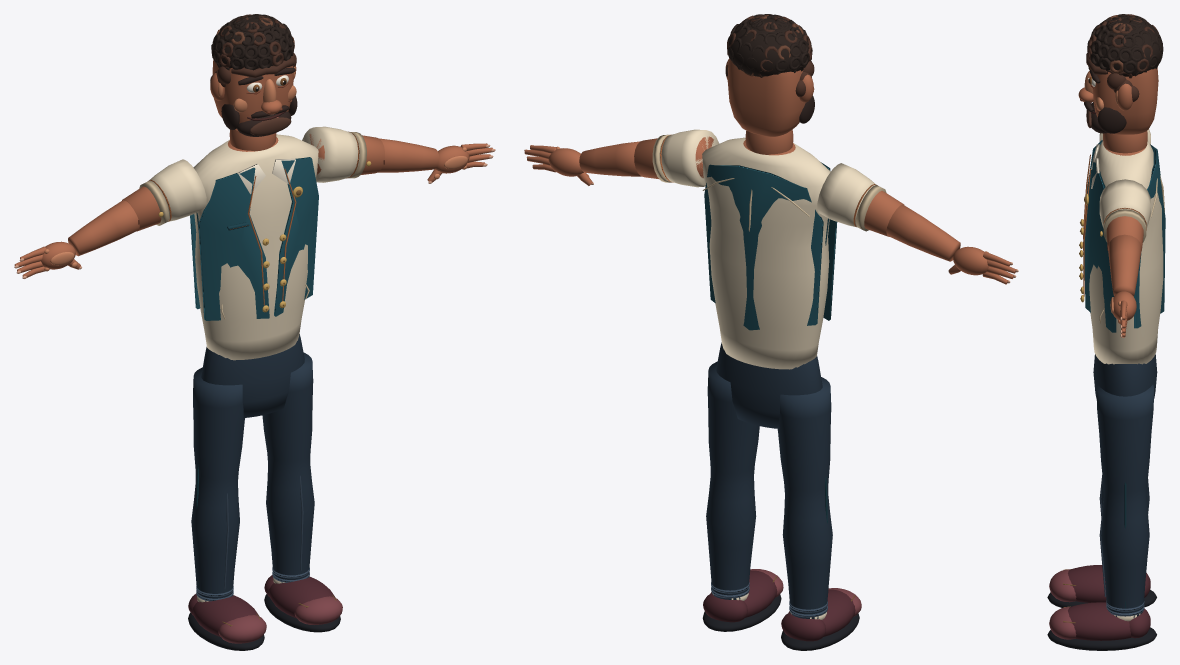
3 renders of one model, left to right at view 1: azimuth 30°, elevation 25°; view 2: azimuth 150°, elevation 25°; view 3: azimuth 270°, elevation 25°, orthographic. The views are drawn at different scales.
Visible parts, largest first — view 1: Trousers - Trouser, Shirt - Shirt, Vest - Vest, Body - Skin, Shoes - Leather, Hair - Hair, Hands - Skin, Face - Skin, Shoes - Leather Light, Hair - Hair Mid, Shoes - Sole, Face - Beard (+3 smaller); view 2: Trousers - Trouser, Shirt - Shirt, Body - Skin, Vest - Vest, Face - Skin, Shoes - Leather, Hair - Hair, Hands - Skin, Shoes - Sole, Shirt - Shirt Seam, Hair - Hair Mid; view 3: Trousers - Trouser, Shirt - Shirt, Vest - Vest, Shoes - Leather, Body - Skin, Hair - Hair, Face - Skin, Shoes - Sole, Hair - Hair Mid, Shoes - Leather Light, Face - Beard, Hands - Skin (+6 smaller).
Part boxes in pixels (bbox=[...]): Trousers - Trouser: bbox=[191, 334, 314, 601]; Shirt - Shirt: bbox=[149, 126, 359, 360]; Vest - Vest: bbox=[190, 157, 318, 320]; Body - Skin: bbox=[68, 129, 439, 256]; Shoes - Leather: bbox=[188, 575, 335, 636]; Hair - Hair: bbox=[211, 14, 294, 70]; Hands - Skin: bbox=[14, 143, 492, 277]; Face - Skin: bbox=[210, 59, 296, 130]; Shoes - Leather Light: bbox=[218, 596, 342, 643]; Hair - Hair Mid: bbox=[210, 14, 296, 87]; Shoes - Sole: bbox=[188, 594, 340, 650]; Face - Beard: bbox=[221, 67, 297, 136]; Trousers - Trouser: bbox=[706, 342, 832, 618]; Shirt - Shirt: bbox=[659, 129, 875, 369]; Body - Skin: bbox=[579, 130, 960, 261]; Vest - Vest: bbox=[704, 162, 837, 330]; Face - Skin: bbox=[725, 58, 813, 136]; Shoes - Leather: bbox=[703, 570, 855, 641]; Hair - Hair: bbox=[727, 14, 811, 76]; Hands - Skin: bbox=[524, 145, 1015, 284]; Shoes - Sole: bbox=[702, 594, 859, 650]; Shirt - Shirt Seam: bbox=[652, 134, 886, 231]; Hair - Hair Mid: bbox=[725, 15, 814, 96]; Trousers - Trouser: bbox=[1093, 354, 1157, 617]; Shirt - Shirt: bbox=[1089, 129, 1163, 364]; Vest - Vest: bbox=[1084, 140, 1165, 332]; Shoes - Leather: bbox=[1068, 565, 1150, 640]; Body - Skin: bbox=[1103, 131, 1147, 296]; Hair - Hair: bbox=[1087, 14, 1163, 76]; Face - Skin: bbox=[1078, 66, 1158, 134]; Shoes - Sole: bbox=[1047, 590, 1156, 650]; Hair - Hair Mid: bbox=[1086, 14, 1158, 101]; Shoes - Leather Light: bbox=[1049, 569, 1076, 639]; Face - Beard: bbox=[1084, 69, 1126, 133]; Hands - Skin: bbox=[1113, 291, 1136, 337].
Bounding box in the file's own units: 6.32 × 7.53 × 1.33.
